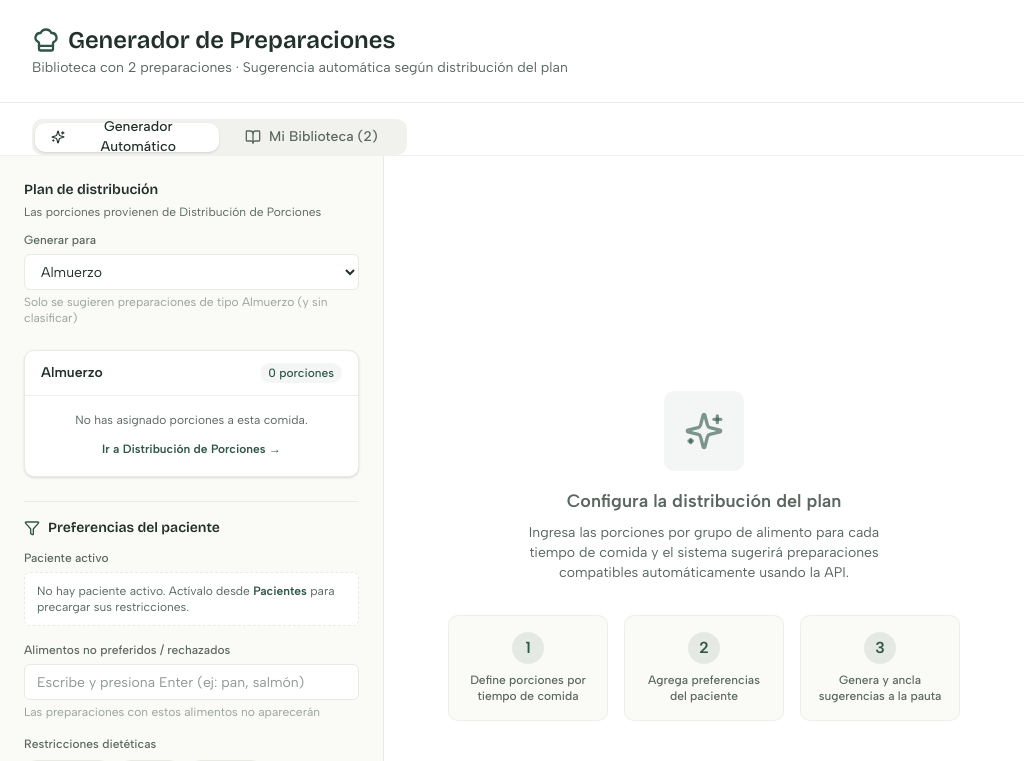
Test: GeneradorPreparaciones › pestañas › al clic en "Mi Biblioteca" muestra el buscador de biblioteca
The image size is (1024, 761).
Click the button "Mi Biblioteca (2)". click: (311, 137)
box: [219,122,404,152]
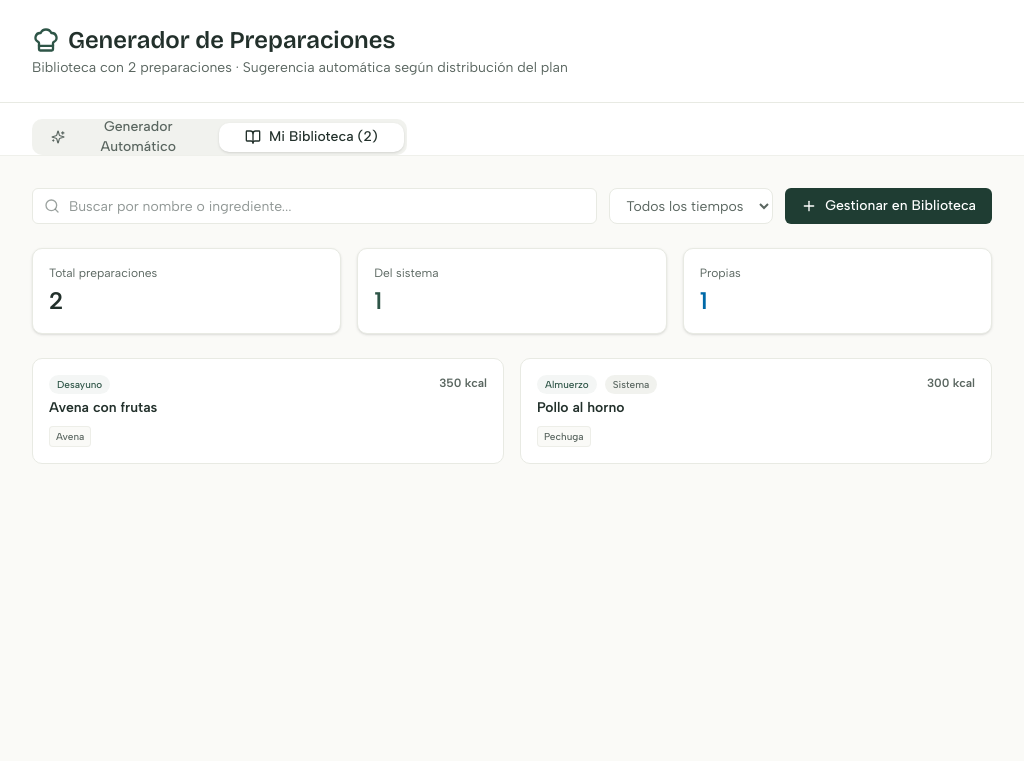
Now the field with placeholder "Buscar por nombre o ingrediente..." is shown, box [32,188,597,224]
